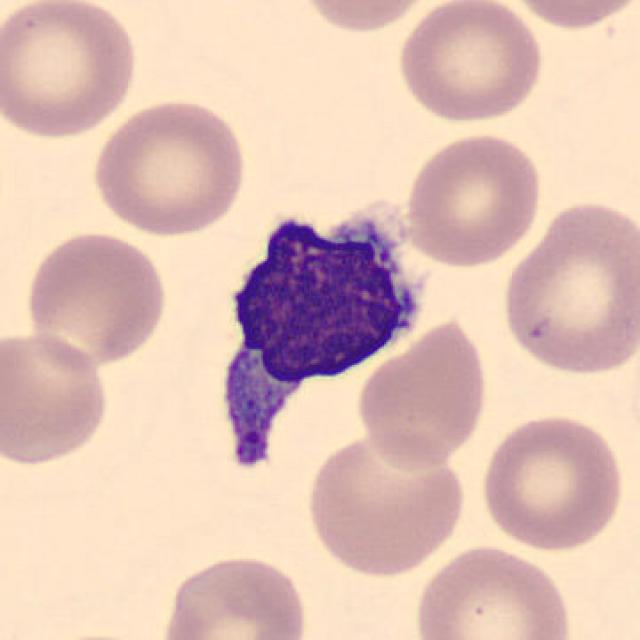Lymphocyte: (201, 188, 430, 494)
RBC: (496, 194, 638, 381), (302, 428, 470, 580), (87, 93, 253, 238), (352, 312, 492, 471), (477, 409, 628, 554), (20, 228, 170, 368), (400, 128, 546, 270), (0, 0, 144, 141), (393, 0, 547, 125), (411, 541, 576, 640), (0, 328, 114, 471), (155, 550, 313, 640), (290, 0, 442, 37), (503, 0, 640, 32)
